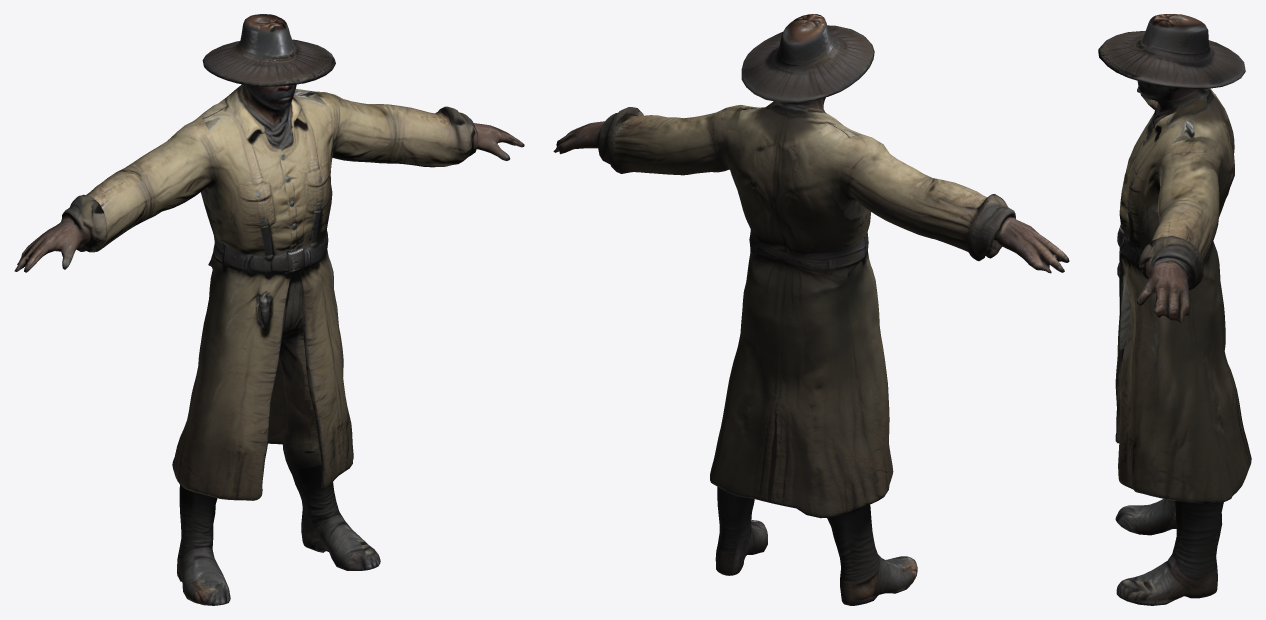
Rendered from SlaveCatcher.fbx.
The picture shows the model from 3 angles, left to right: view 1: azimuth 30°, elevation 25°; view 2: azimuth 150°, elevation 25°; view 3: azimuth 270°, elevation 25°; orthographic projection.
Visible parts, largest first — view 1: Mesh1.0; view 2: Mesh1.0; view 3: Mesh1.0.
Boxes of the visible parts, <box> form: Mesh1.0: <box>14,14,524,605</box>; Mesh1.0: <box>553,14,1069,605</box>; Mesh1.0: <box>1098,14,1251,605</box>.
Size of the model in its own units: 192 by 200 by 51.01.
1 material, 1 textured.
